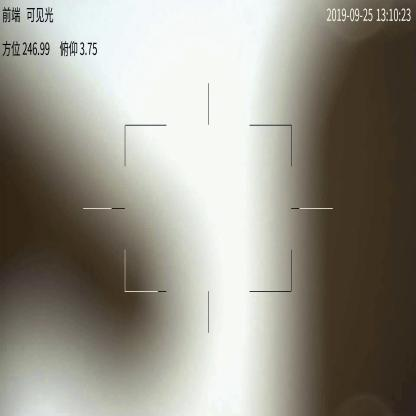uav: (264, 281, 279, 303)
